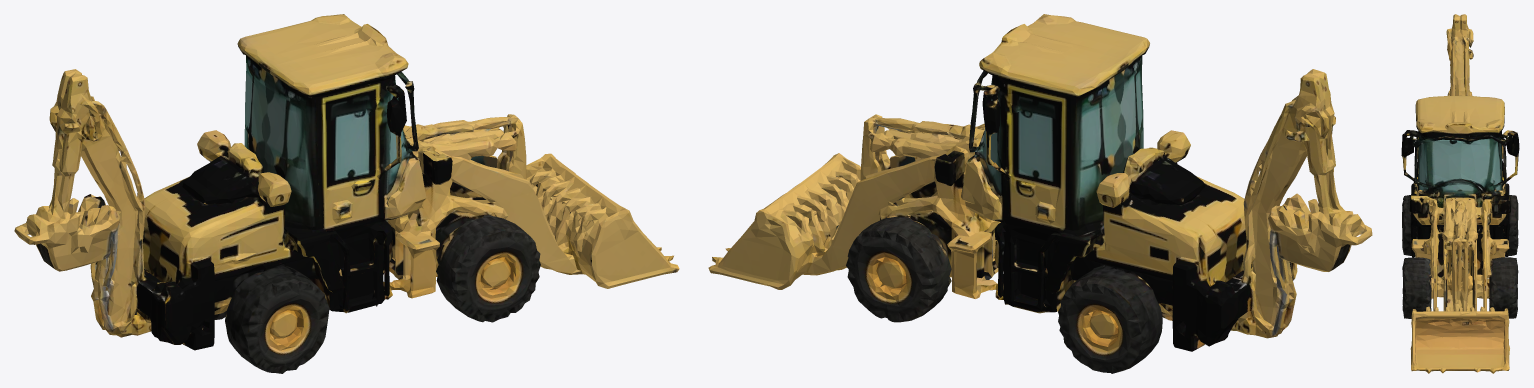
Rendered from bagerNovi-v1.glb.
3 renders of one model, left to right at view 1: azimuth 30°, elevation 25°; view 2: azimuth 150°, elevation 25°; view 3: azimuth 270°, elevation 25°, orthographic. The views are drawn at different scales.
Visible parts, largest first — view 1: textured_mesh.obj; view 2: textured_mesh.obj; view 3: textured_mesh.obj.
Boxes of the visible parts, left/top/right/bottom form: textured_mesh.obj: left=14, top=14, right=679, bottom=373; textured_mesh.obj: left=708, top=14, right=1372, bottom=373; textured_mesh.obj: left=1401, top=14, right=1519, bottom=373.
Bounding box in the file's own units: 1.99 × 0.9384 × 0.5317.
1 material, 1 textured.
